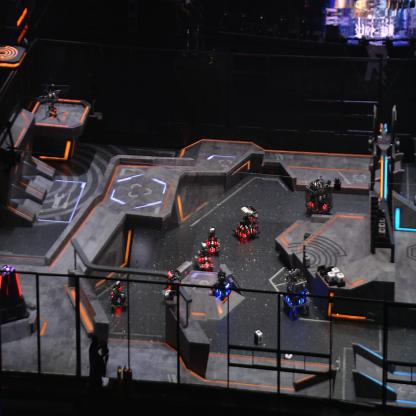car: (280, 268, 312, 319), (304, 176, 334, 216), (232, 203, 261, 243), (211, 270, 233, 302), (194, 240, 214, 270), (110, 280, 128, 312), (204, 226, 220, 256)
